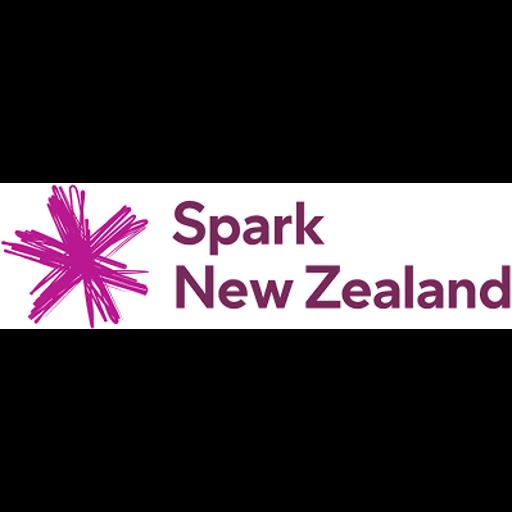Spark New Zealand: (0, 183, 512, 329)
